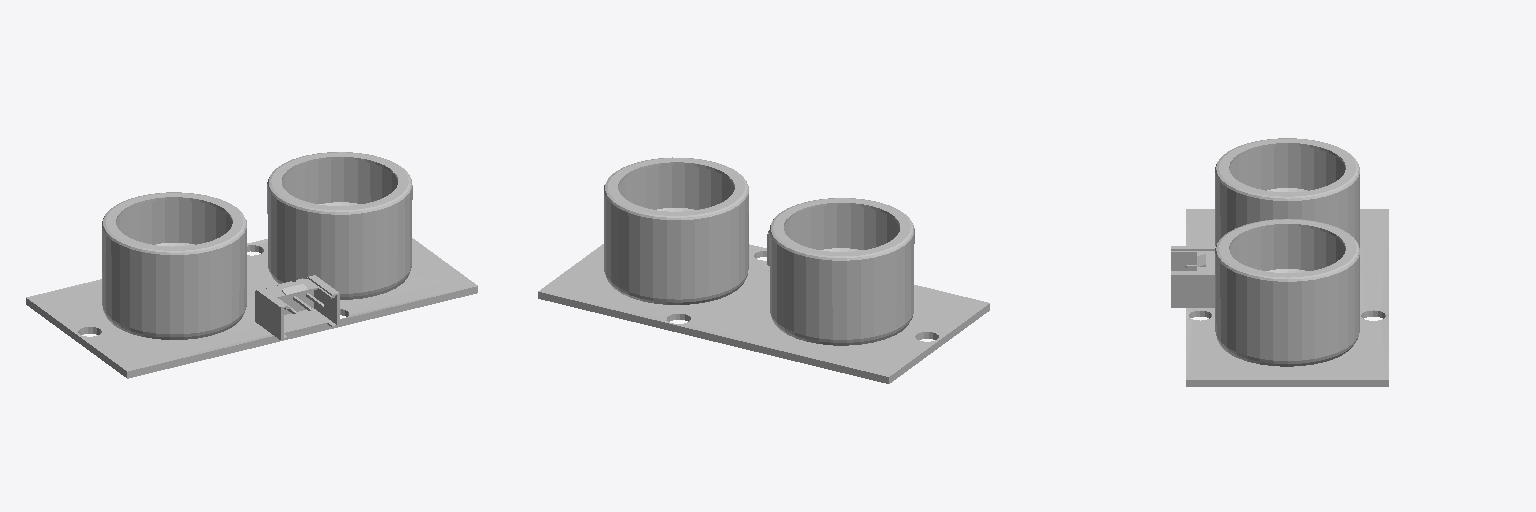
File: UltrasonicSensor.obj
3 views of the same model, side by side, from view 1: azimuth 30°, elevation 25°; view 2: azimuth 150°, elevation 25°; view 3: azimuth 270°, elevation 25° (orthographic).
Parts seen in each view (by area): view 1: Ultrasonic_Sensor_NoNet_UltrasonicSensorMaterial; view 2: Ultrasonic_Sensor_NoNet_UltrasonicSensorMaterial; view 3: Ultrasonic_Sensor_NoNet_UltrasonicSensorMaterial.
Part boxes in pixels (bbox=[...]): Ultrasonic_Sensor_NoNet_UltrasonicSensorMaterial: bbox=[26, 152, 477, 378]; Ultrasonic_Sensor_NoNet_UltrasonicSensorMaterial: bbox=[538, 157, 989, 383]; Ultrasonic_Sensor_NoNet_UltrasonicSensorMaterial: bbox=[1171, 138, 1388, 386].
Bounding box in the file's own units: 5.98 × 1.64 × 3.21.